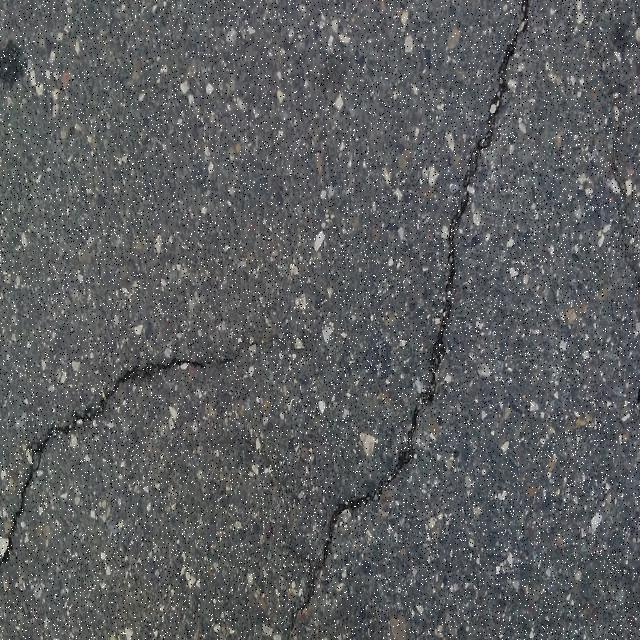Crack: (292, 0, 529, 634), (0, 359, 210, 567), (611, 139, 640, 314), (636, 369, 640, 410)
